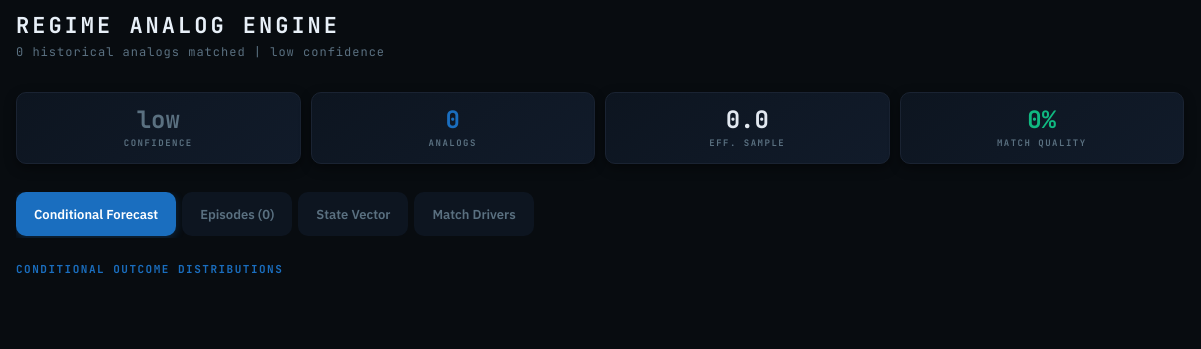
Test: RegimeAnalog — honest availability states › states no historical episode matched, rather than an empty table with no explanation
Click the button "Episodes (0)".
click(237, 214)  # box x1=182 y1=192 x2=292 y2=236
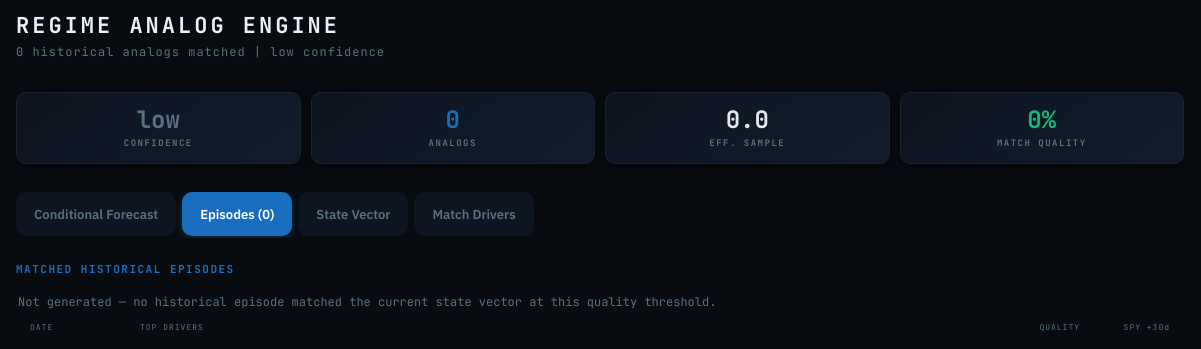
Check: the text "Not generated — no historical episode matched" is shown, box x1=18 y1=294 x2=716 y2=310
